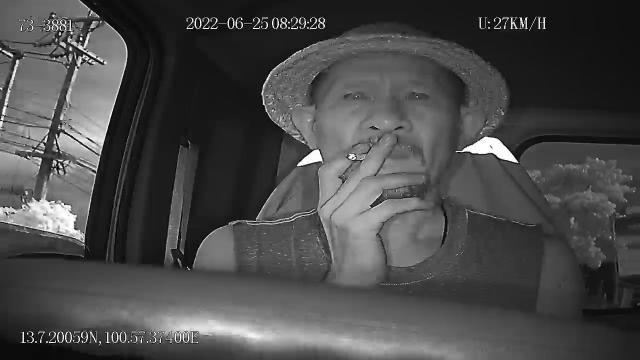SafeDriving: (336, 82, 372, 108), (400, 82, 436, 106)
Smoking: (344, 150, 368, 166)
